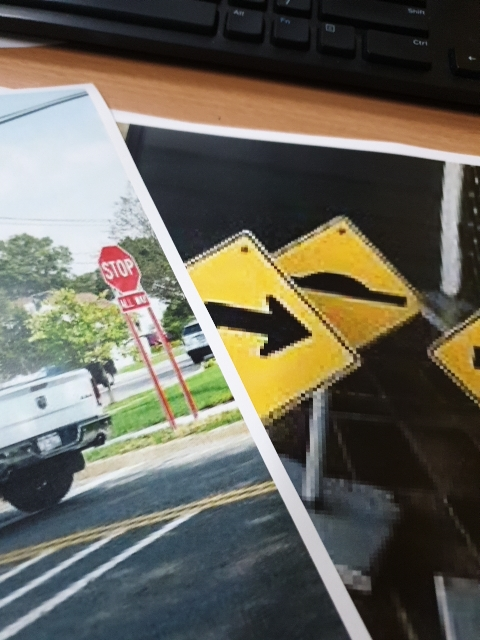right: (173, 224, 344, 417)
stop: (84, 223, 162, 320)
